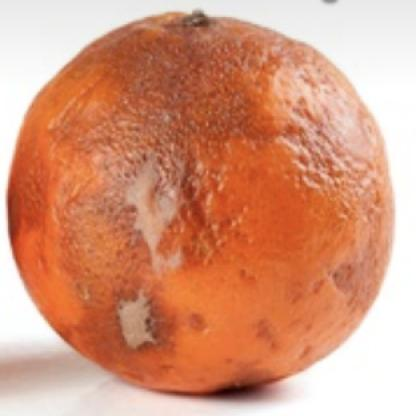rotten: (9, 14, 395, 400)
